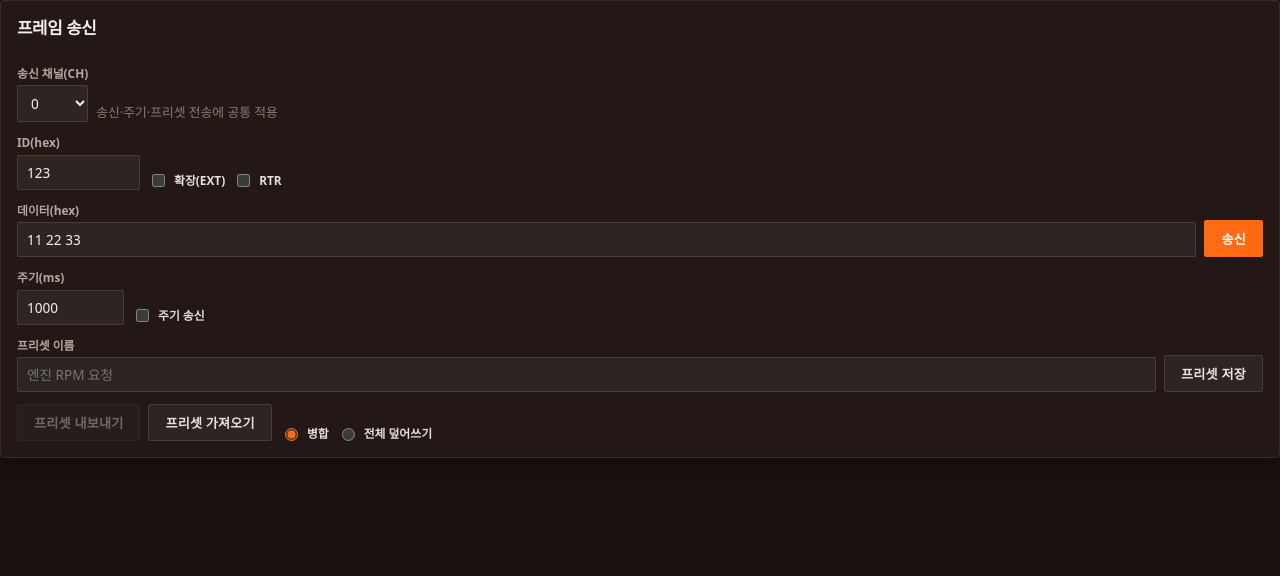
TxPanel › 송신 프리셋 › 프리셋을 삭제하면 목록에서 사라진다
The width and height of the screenshot is (1280, 576).
Type "삭제대상" into the field with placeholder "엔진 RPM 요청" at (587, 375), box [17,357,1156,392]
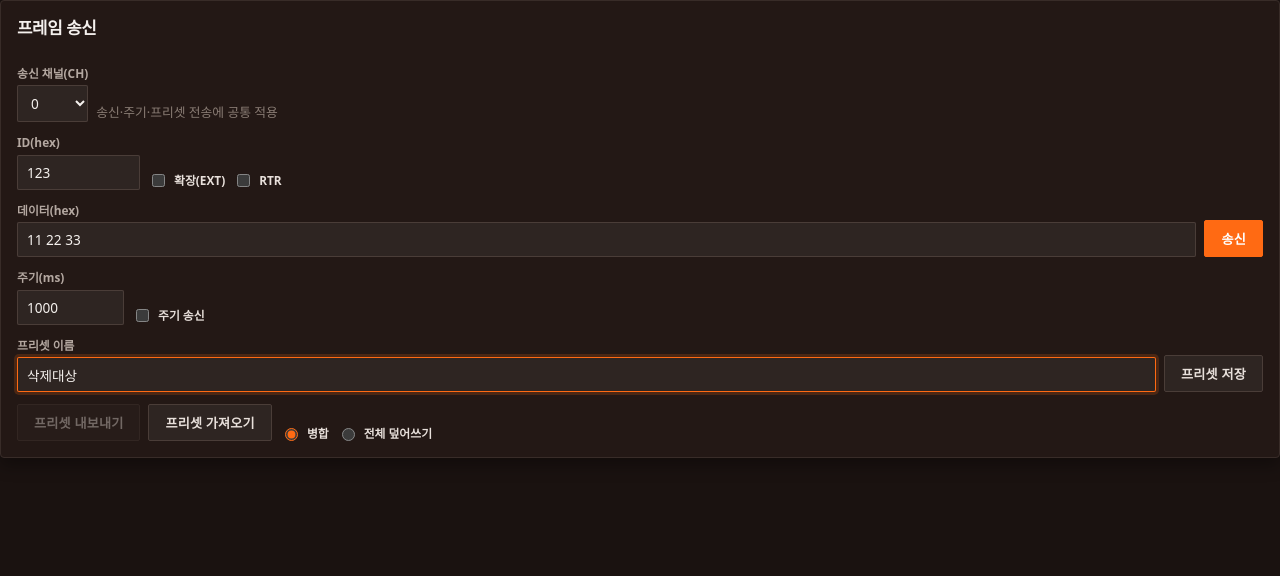
Click the button "프리셋 저장" at (1214, 374), box [1164,355,1263,392]
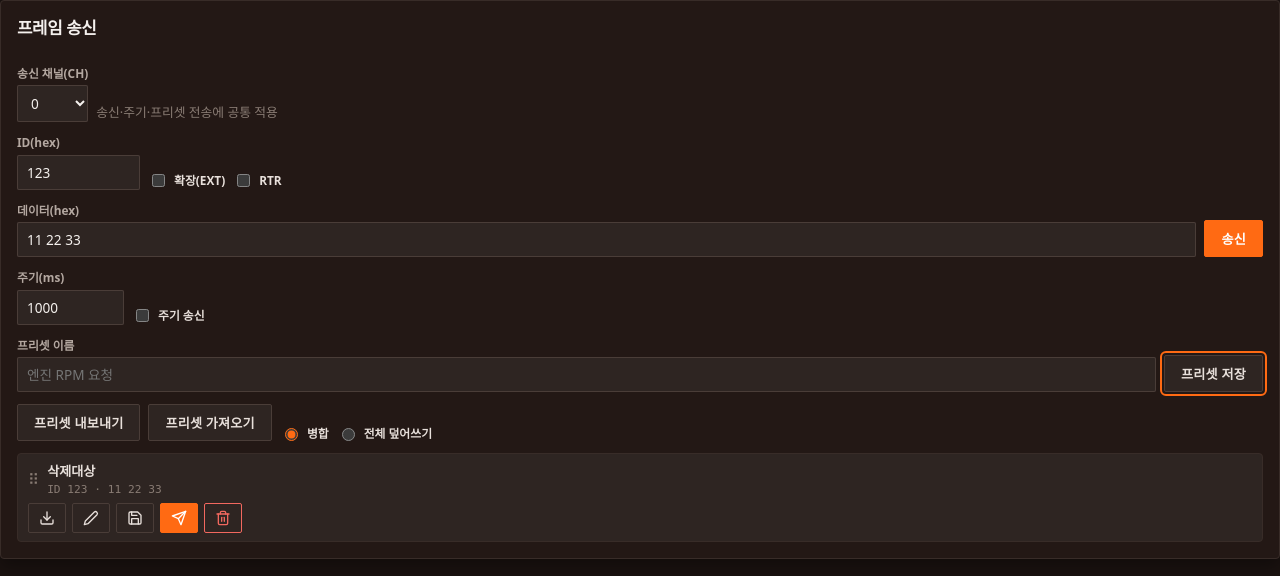
expect the text "삭제대상" is shown: met, box [47,462,95,480]
Click the button named "삭제" at (223, 518), box [204,504,242,534]
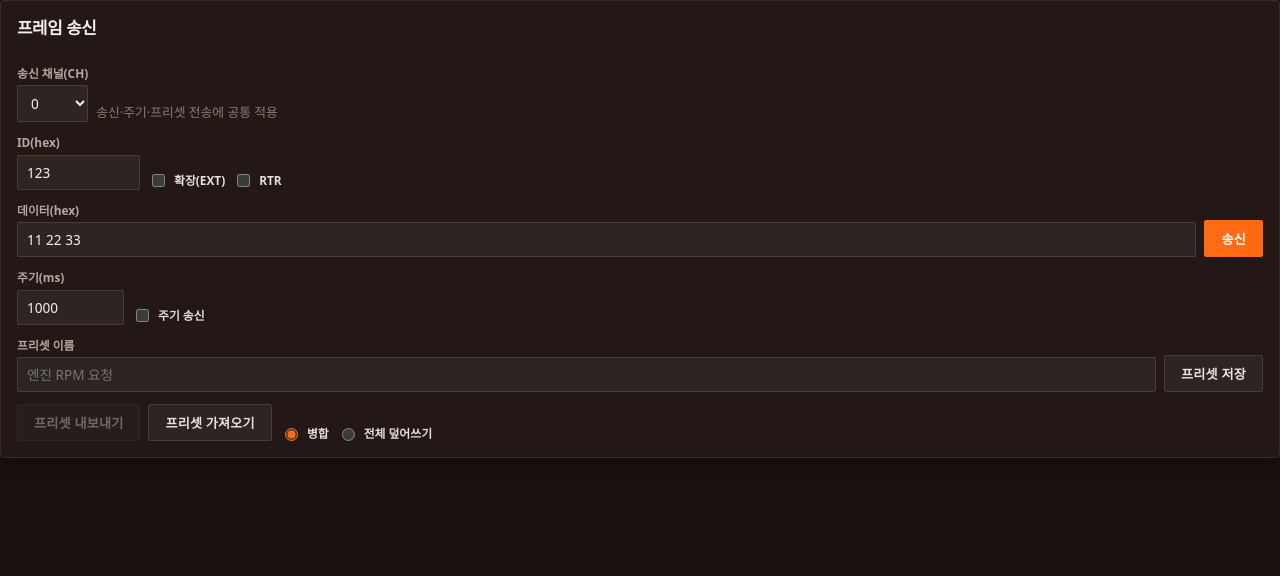
expect the text "삭제대상" is gone: met
